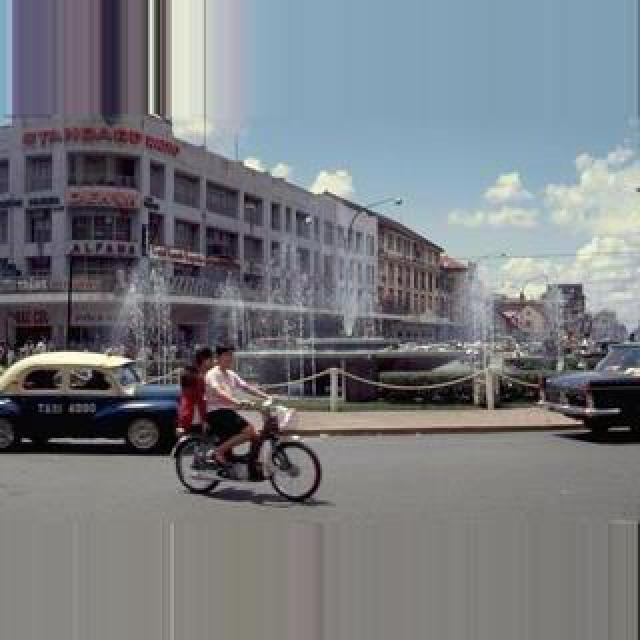Bus-Bike: (0, 352, 178, 454), (542, 340, 640, 440)
MC-Bike: (202, 348, 276, 480), (176, 346, 214, 448)
Person: (172, 400, 322, 502)
